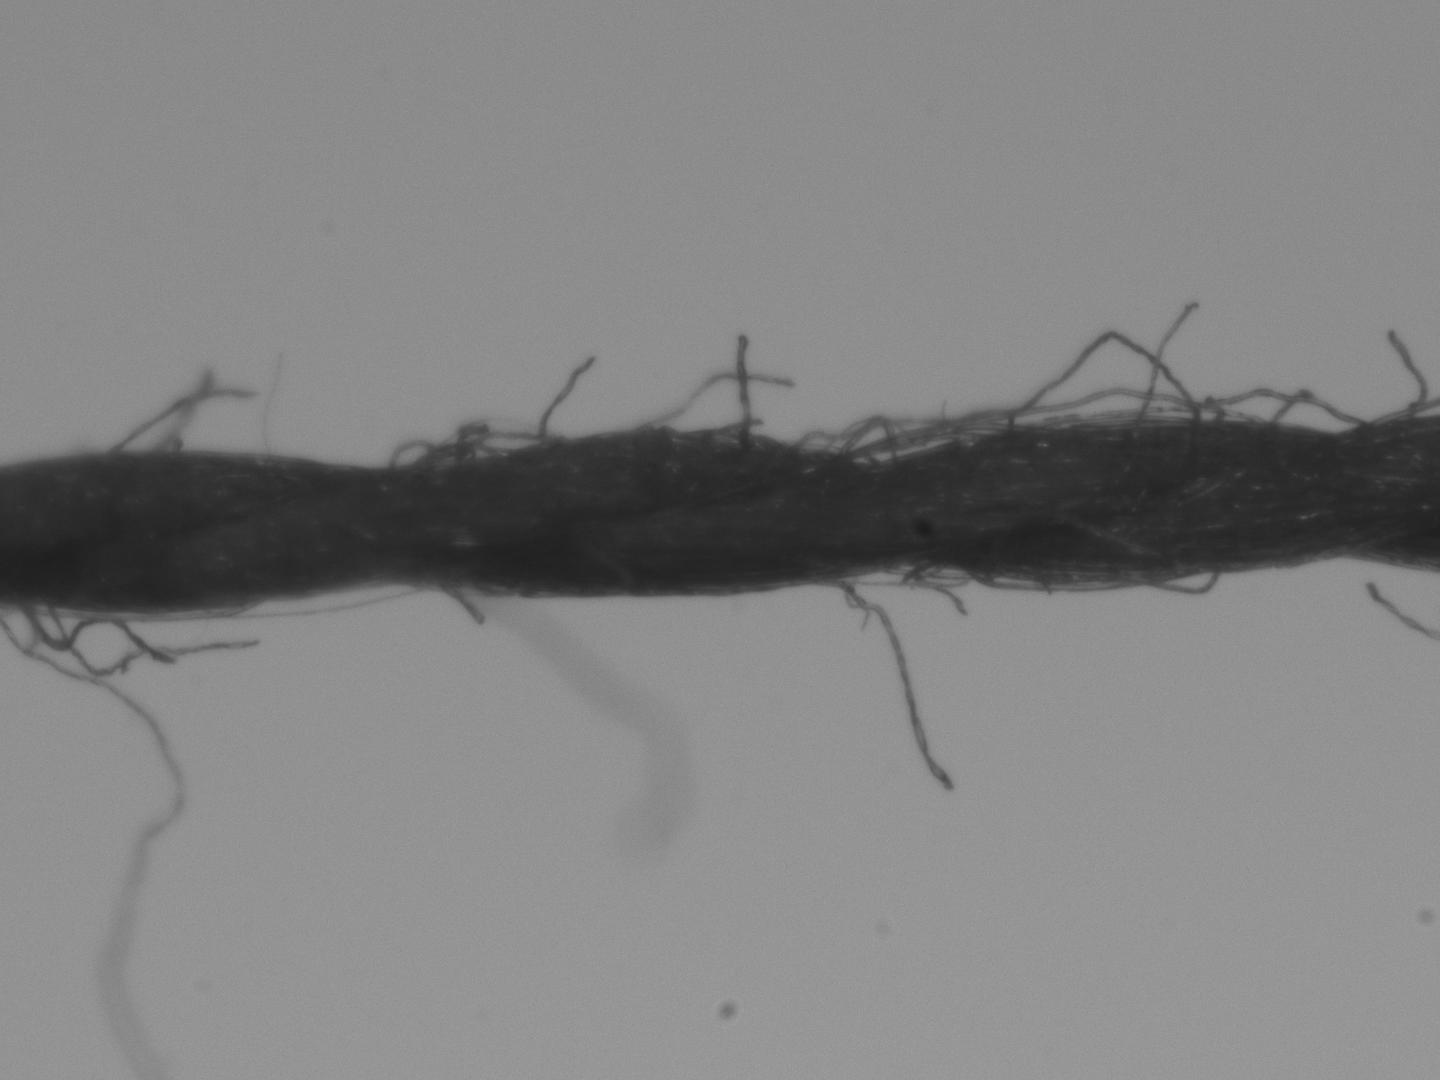loop_fiber: (837, 422, 1026, 466), (22, 597, 248, 626), (1033, 406, 1255, 433), (962, 567, 1128, 594), (409, 442, 505, 472), (1135, 571, 1223, 596)
protruding_fiber: (825, 576, 955, 794), (1127, 301, 1197, 430), (539, 356, 600, 439), (734, 334, 752, 452), (438, 582, 483, 627)
